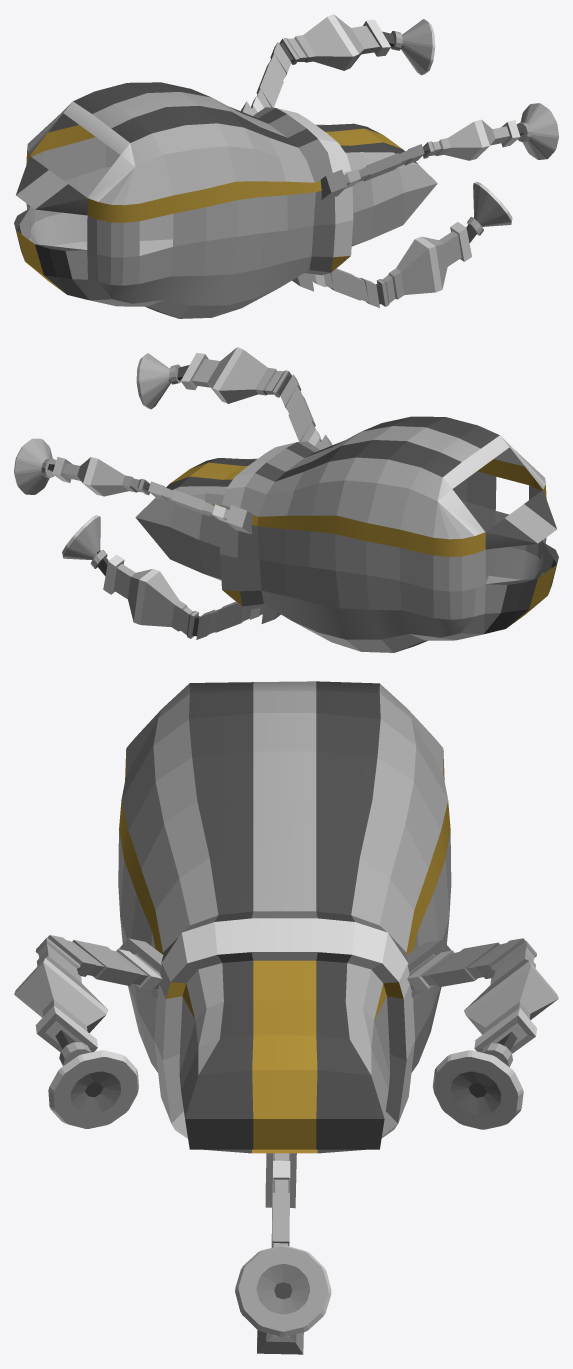
The model's file is Exterior_Spaceship_Legs.FBX.
The picture shows the model from 3 angles, top to bottom: view 1: azimuth 30°, elevation 25°; view 2: azimuth 150°, elevation 25°; view 3: azimuth 270°, elevation 25°; orthographic projection. The views are drawn at different scales.
Visible parts, largest first — view 1: Spaceship_Legs; view 2: Spaceship_Legs; view 3: Spaceship_Legs.
Part boxes in pixels (x1,y1,x2,y2): Spaceship_Legs: (14, 14, 558, 318); Spaceship_Legs: (14, 347, 558, 652); Spaceship_Legs: (14, 681, 558, 1354).
Bounding box in the file's own units: 2892 × 1489 × 1715.
